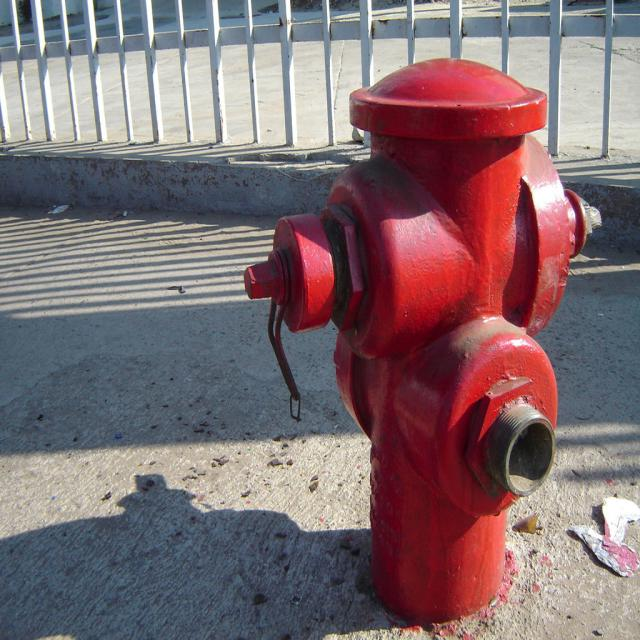fire_hydrant: (245, 58, 592, 625)
